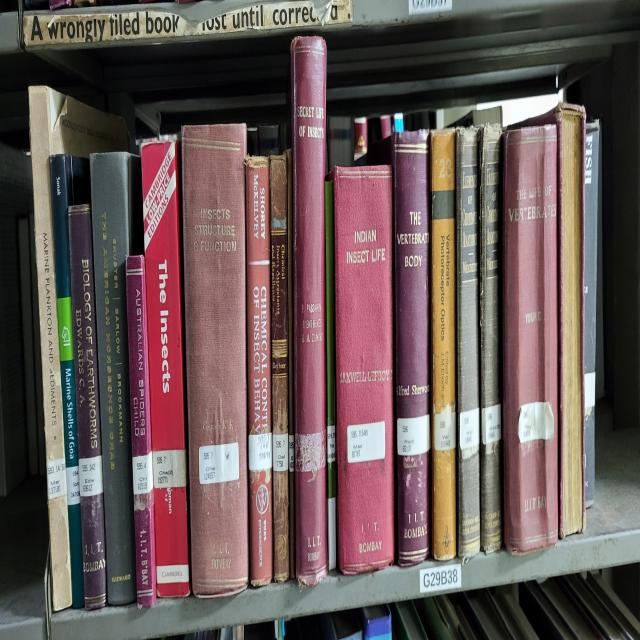Book: (29, 87, 129, 611), (182, 124, 249, 598), (330, 165, 394, 574), (370, 130, 430, 565), (502, 122, 559, 555), (90, 152, 142, 606), (141, 138, 190, 595), (291, 38, 328, 584), (50, 154, 90, 606), (69, 206, 106, 609), (245, 157, 272, 584), (430, 130, 456, 560), (126, 254, 156, 606), (456, 127, 480, 560), (479, 124, 502, 555), (270, 157, 289, 582), (584, 122, 600, 506), (325, 181, 336, 571), (286, 149, 295, 579)
Label: (199, 441, 239, 484), (519, 400, 554, 444), (295, 430, 326, 479), (348, 422, 385, 463), (152, 449, 186, 490), (398, 414, 430, 455), (434, 406, 456, 452), (79, 455, 102, 498), (132, 452, 154, 495), (46, 457, 66, 501), (249, 433, 272, 471), (459, 409, 480, 449), (481, 403, 501, 444), (272, 433, 289, 471), (66, 465, 80, 506), (584, 371, 596, 417), (328, 425, 336, 463), (289, 433, 295, 473)
